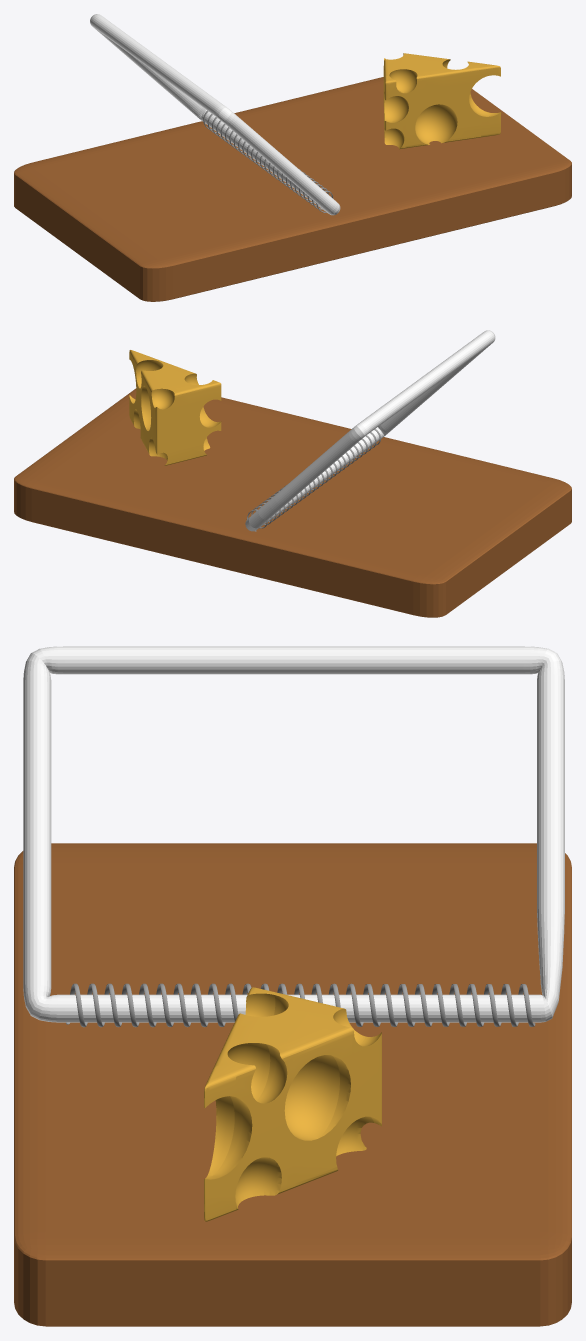
File: mousetrap2.glb
3 views of the same model, one above another, from view 1: azimuth 30°, elevation 25°; view 2: azimuth 150°, elevation 25°; view 3: azimuth 270°, elevation 25° (orthographic). The views are drawn at different scales.
Parts seen in each view (by area): view 1: Cube.002; view 2: Cube.002; view 3: Cube.002.
Part boxes in pixels (x1,y1,x2,y2): Cube.002: [14, 14, 571, 301]; Cube.002: [14, 330, 571, 617]; Cube.002: [14, 646, 571, 1326].
Bounding box in the file's own units: 2 × 0.7744 × 1.13.
